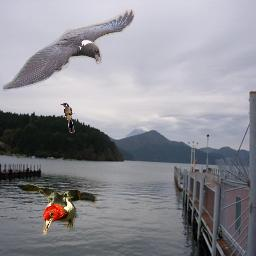Crow: (3, 9, 135, 91)
Cuckoo: (60, 103, 75, 133)
Woodpecker: (12, 179, 98, 238)
